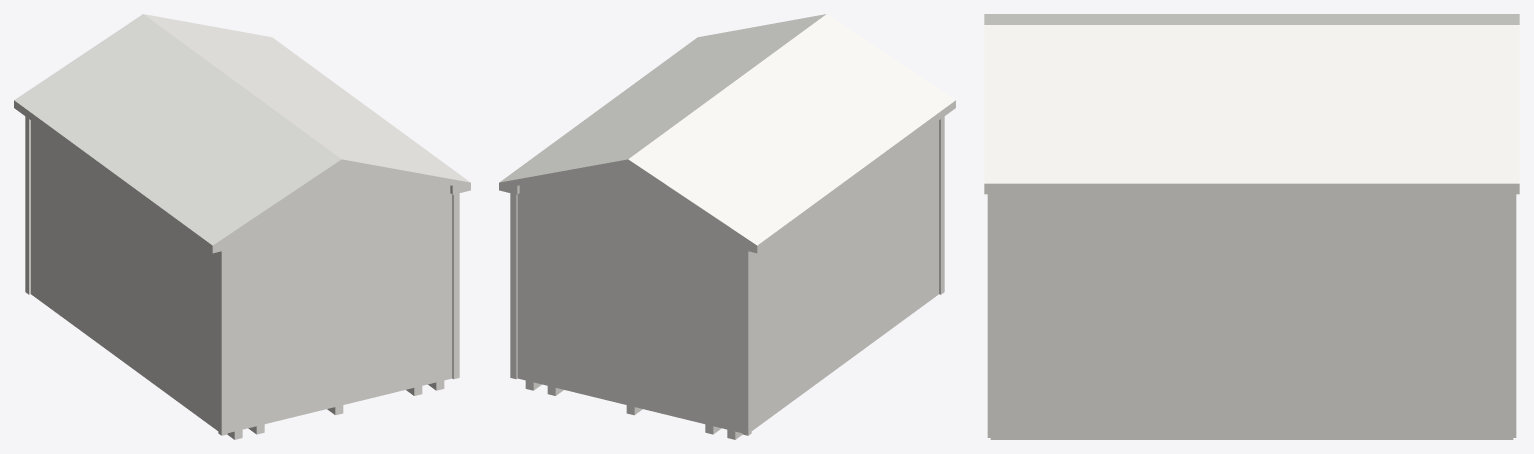
Rendered from 8 wide A-frame_7ft_10x14.obj.
The picture shows the model from 3 angles, left to right: view 1: azimuth 30°, elevation 25°; view 2: azimuth 150°, elevation 25°; view 3: azimuth 270°, elevation 25°; orthographic projection. The views are drawn at different scales.
Visible parts, largest first — view 1: Shed, Roof, Trim, Sides, Floor; view 2: Shed, Roof, Trim, Sides, Floor; view 3: Shed, Roof, Sides, Trim, Floor.
Part boxes in pixels (x1,y1,x2,y2): Shed: (31,121,452,432); Roof: (14,14,470,245); Trim: (25,116,459,435); Sides: (14,100,470,253); Floor: (227,380,444,439); Shed: (517,121,938,432); Roof: (499,14,955,245); Trim: (510,116,944,435); Sides: (499,100,955,253); Floor: (525,380,742,439); Shed: (997,194,1506,436); Roof: (984,14,1519,183); Sides: (984,183,1519,194); Trim: (987,194,1516,437); Floor: (990,436,1513,439).
Bounding box in the file's own units: 3.28 × 3.12 × 4.37.
